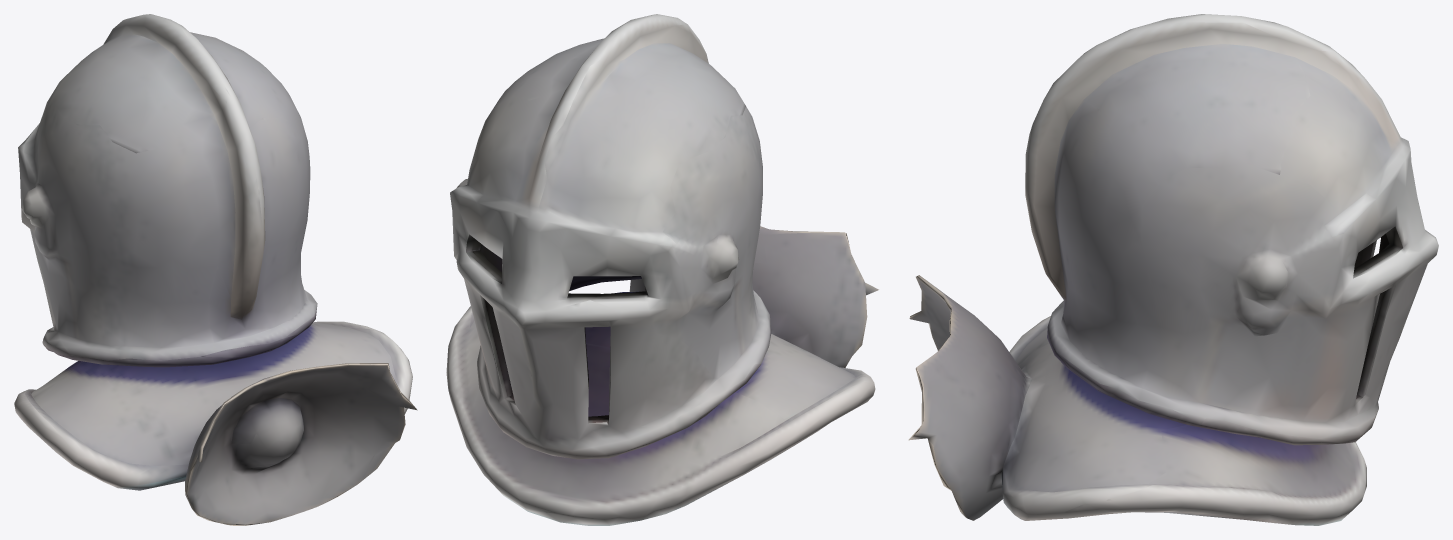
The picture shows the model from 3 angles, left to right: view 1: azimuth 30°, elevation 25°; view 2: azimuth 150°, elevation 25°; view 3: azimuth 270°, elevation 25°; orthographic projection. The views are drawn at different scales.
Parts seen in each view (by area): view 1: human; view 2: human; view 3: human.
Boxes of the visible parts, x1,y1,x2,y2 form: human: (14,14,417,525); human: (446,14,878,525); human: (908,14,1438,525).
Size of the model in its own units: 0.1257 by 0.1422 by 0.14.
Materials: 1 (1 with a texture image).
